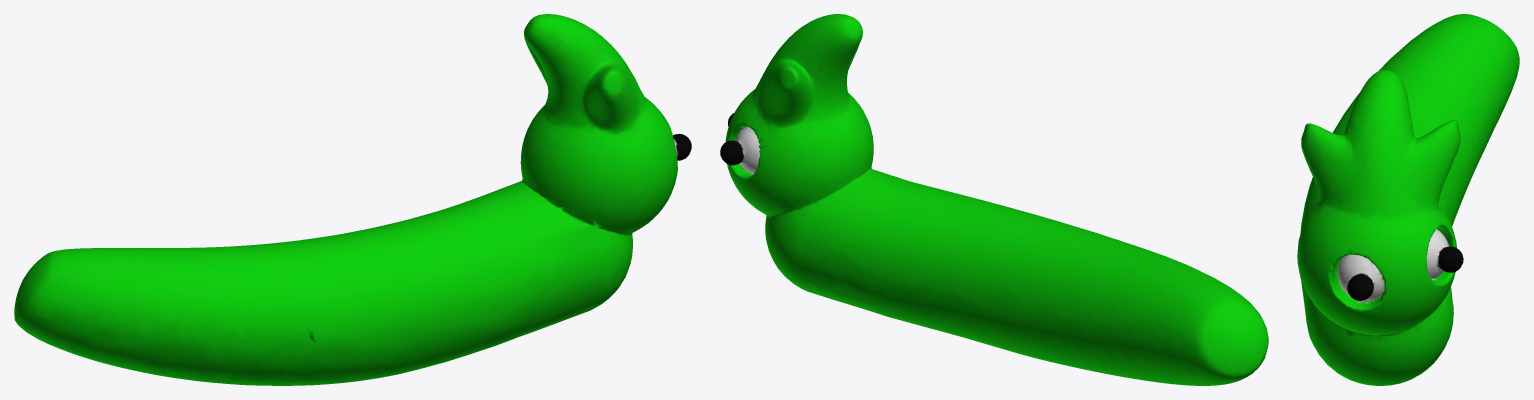
File: kw_worm1.gltf
3 renders of one model, left to right at view 1: azimuth 30°, elevation 25°; view 2: azimuth 150°, elevation 25°; view 3: azimuth 270°, elevation 25°, orthographic. The views are drawn at different scales.
Parts seen in each view (by area): view 1: Layer_1; view 2: Layer_1; view 3: Layer_1.
Part boxes in pixels (x1=…): Layer_1: x1=14, y1=14, x2=691, y2=385; Layer_1: x1=720, y1=14, x2=1268, y2=385; Layer_1: x1=1297, y1=14, x2=1519, y2=385.
Size of the model in its own units: 0.9113 by 0.4339 by 0.2792.
